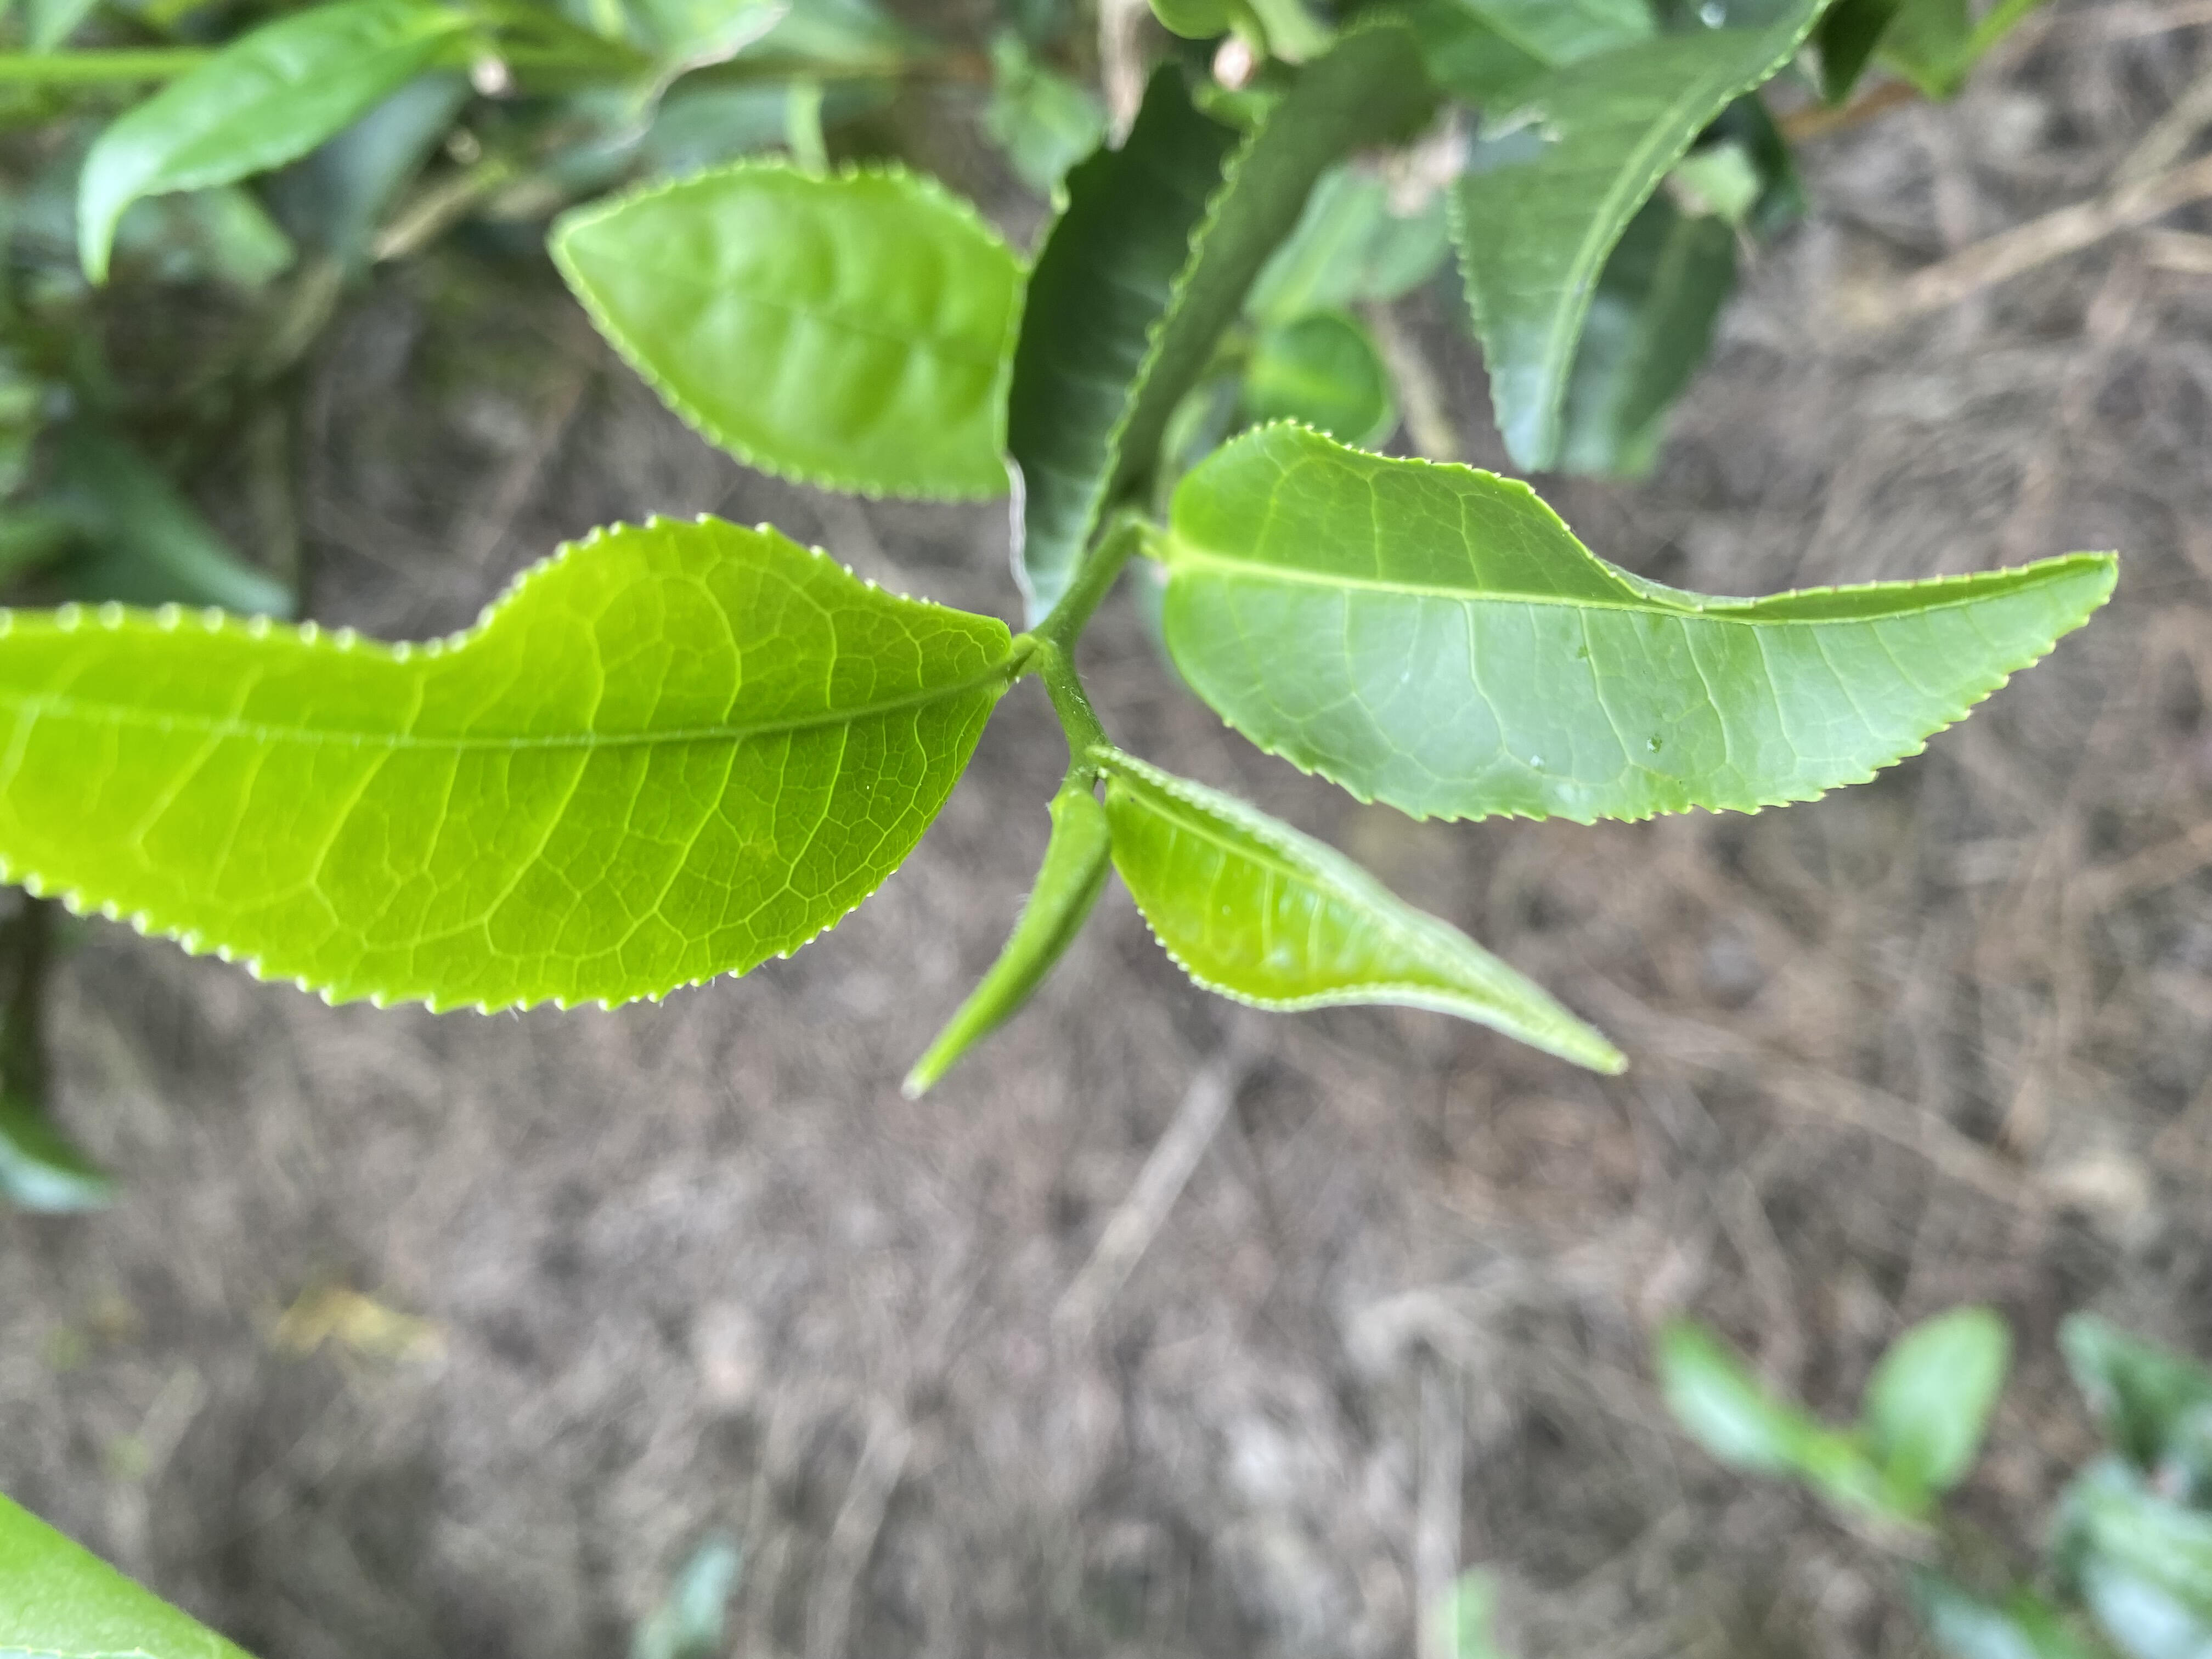healthy: (0, 505, 1014, 1018), (1157, 418, 2123, 831), (1089, 744, 1627, 1079)
